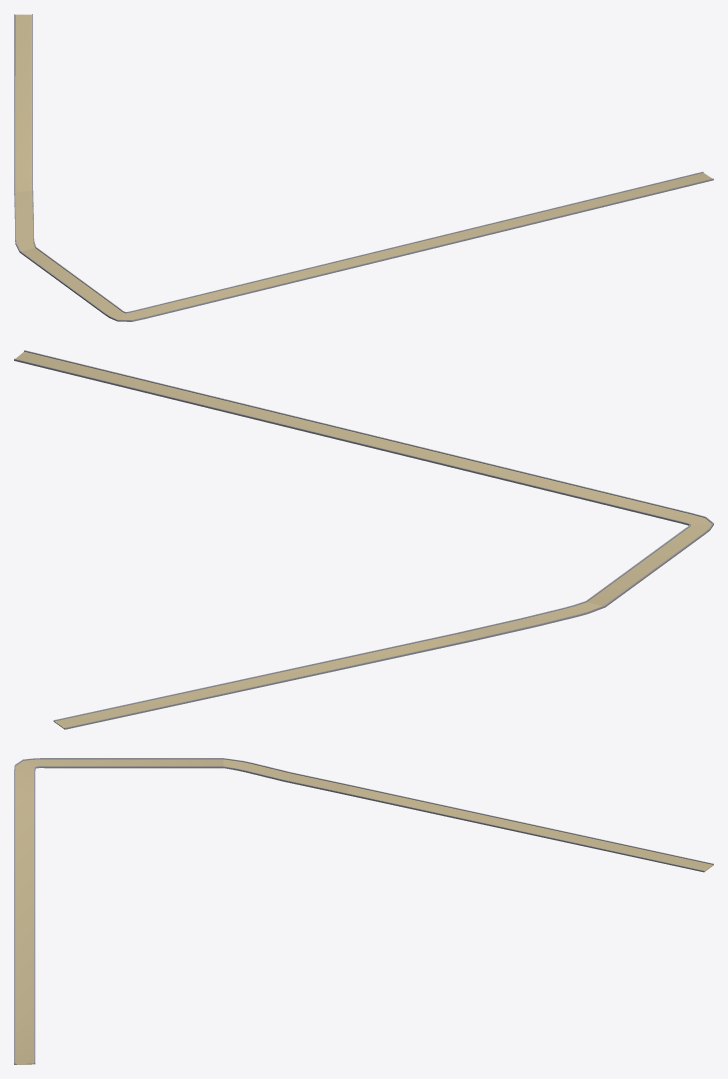
File: sidewalk_4.fbx
3 renders of one model, top to bottom at view 1: azimuth 30°, elevation 25°; view 2: azimuth 150°, elevation 25°; view 3: azimuth 270°, elevation 25°, orthographic. The views are drawn at different scales.
Visible parts, largest first — view 1: sidewalk_03; view 2: sidewalk_03; view 3: sidewalk_03.
Part boxes in pixels (x1,y1,x2,y2): sidewalk_03: [14, 14, 713, 321]; sidewalk_03: [14, 350, 713, 729]; sidewalk_03: [14, 758, 713, 1064].
Size of the model in its own units: 11.63 by 0.2259 by 11.27.
Materials: 1 (1 with a texture image).
